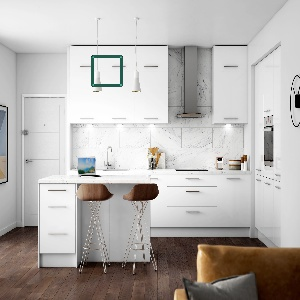square: (89, 54, 125, 89)
